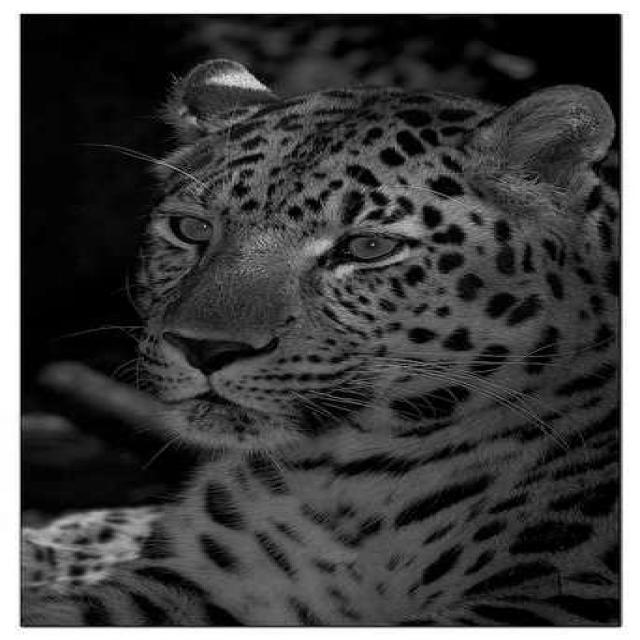Leopard: (21, 56, 620, 626)
